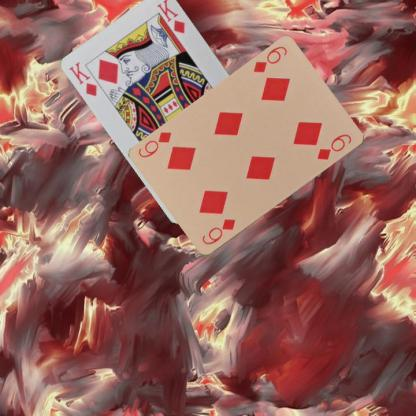6d: (199, 216, 237, 247), (250, 44, 288, 74)
Kd: (66, 59, 99, 98)
